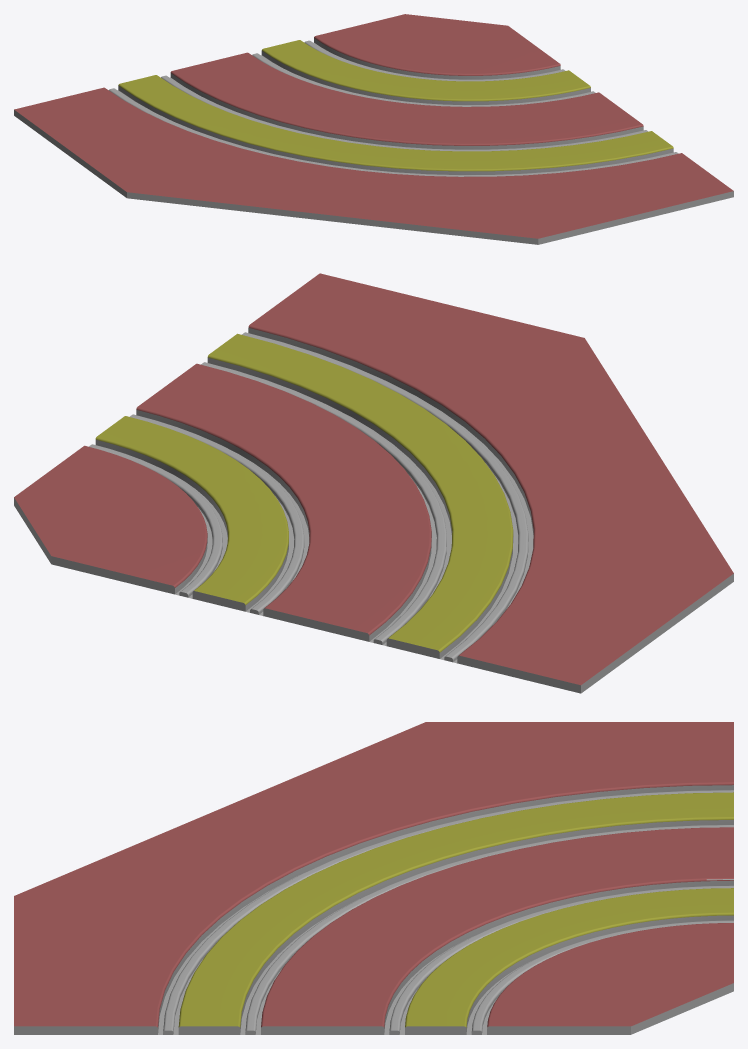
The model's file is leftCorner1.fbx.
The picture shows the model from 3 angles, top to bottom: view 1: azimuth 30°, elevation 25°; view 2: azimuth 150°, elevation 25°; view 3: azimuth 270°, elevation 25°; orthographic projection. The views are drawn at different scales.
Visible parts, largest first — view 1: LeftCorner1; view 2: LeftCorner1; view 3: LeftCorner1.
Boxes of the visible parts, left/top/right/bottom form: LeftCorner1: left=14, top=14, right=733, bottom=244; LeftCorner1: left=14, top=273, right=733, bottom=693; LeftCorner1: left=14, top=722, right=733, bottom=1034.
Bounding box in the file's own units: 700 × 9 × 700.
